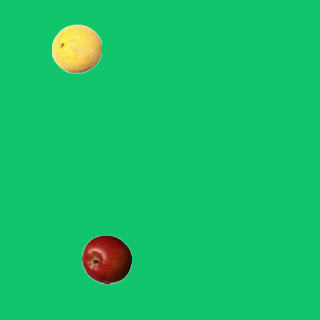Apple Braeburn: (81, 234, 131, 284)
Cantaloupe 1: (51, 23, 101, 73)
